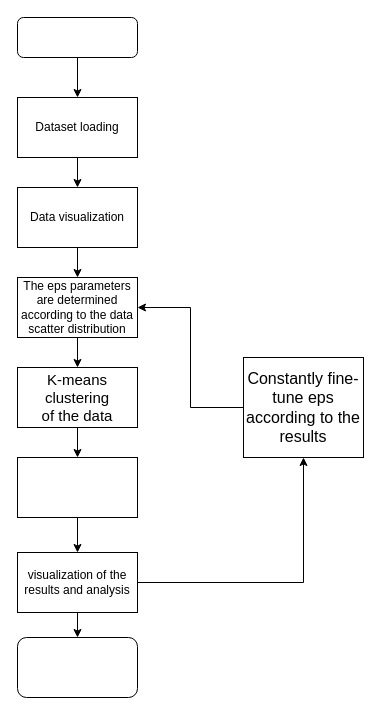
This 381x715 diagram has some shape labels left out. Each missing label, with the centre of its shape:
"DBSCAN of the Data" belongs at [77,487].
"END" belongs at [77,667].
"start" belongs at [77,37].
